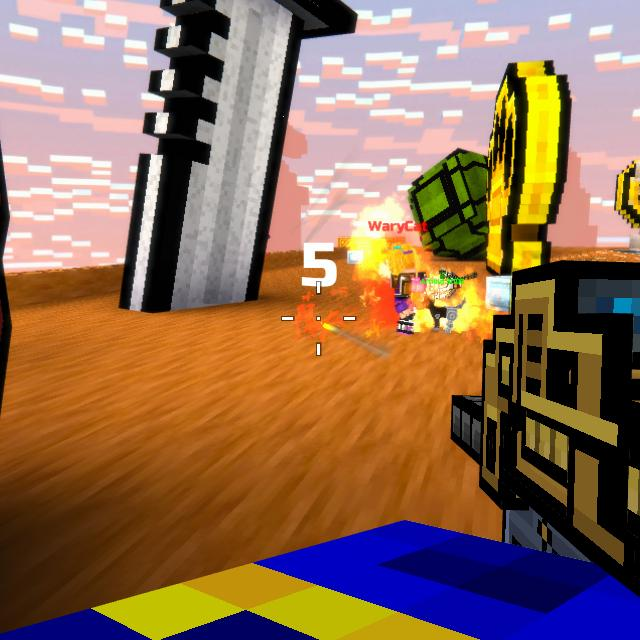Enemy: (380, 242, 425, 335)
